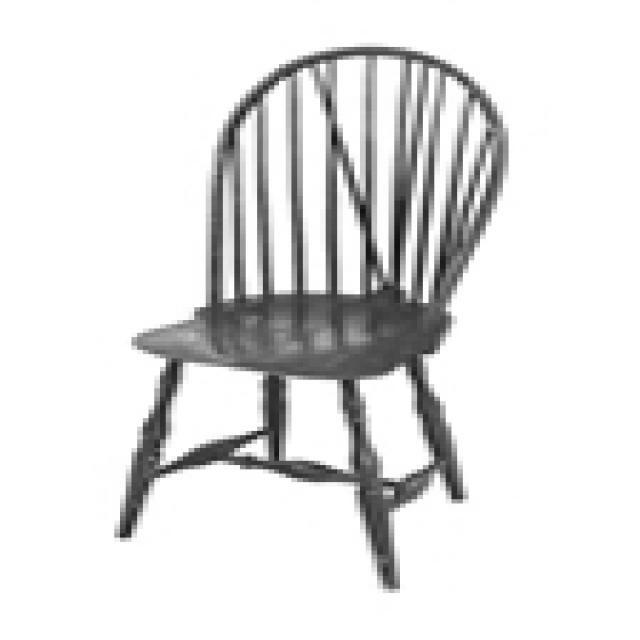chair: (113, 48, 513, 590)
